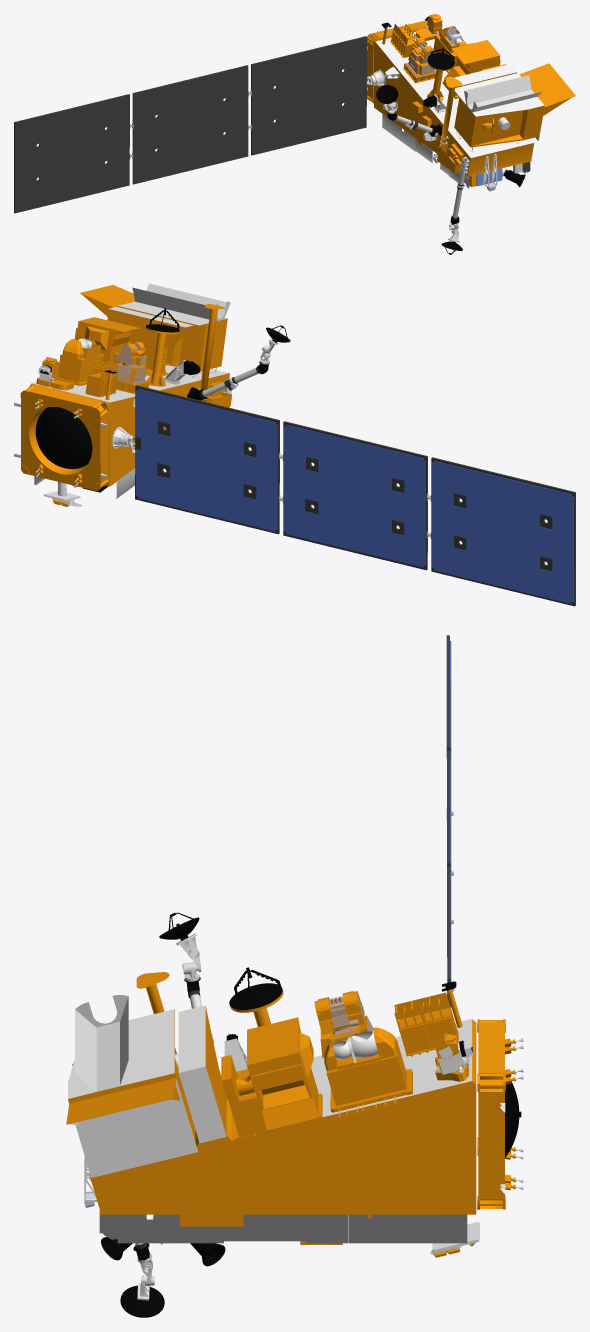
The model's file is noaa20.gltf.
3 views of the same model, one above another, from view 1: azimuth 30°, elevation 25°; view 2: azimuth 150°, elevation 25°; view 3: azimuth 270°, elevation 25° (orthographic). The views are drawn at different scales.
Parts seen in each view (by area): view 1: Part__Panel_011.001, Part__1_Body_016; view 2: Part__Panel_011.001, Part__1_Body_016; view 3: Part__1_Body_016, Part__Panel_011.001.
Part boxes in pixels (x1,y1,x2,y2): Part__Panel_011.001: (14,36,376,213); Part__1_Body_016: (367,14,575,254); Part__Panel_011.001: (122,385,575,606); Part__1_Body_016: (14,283,290,506); Part__1_Body_016: (66,912,523,1317); Part__Panel_011.001: (446,635,453,1007).
Bounding box in the file's own units: 11.17 × 4.18 × 4.74.
